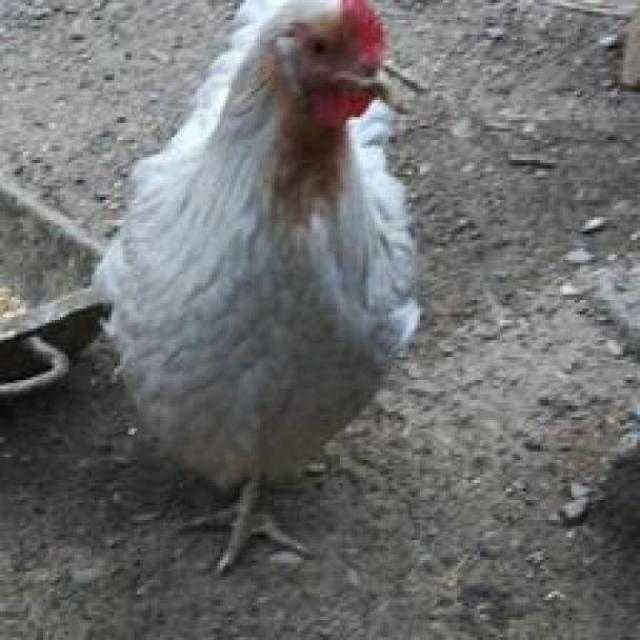Chicken: (86, 0, 472, 595)
